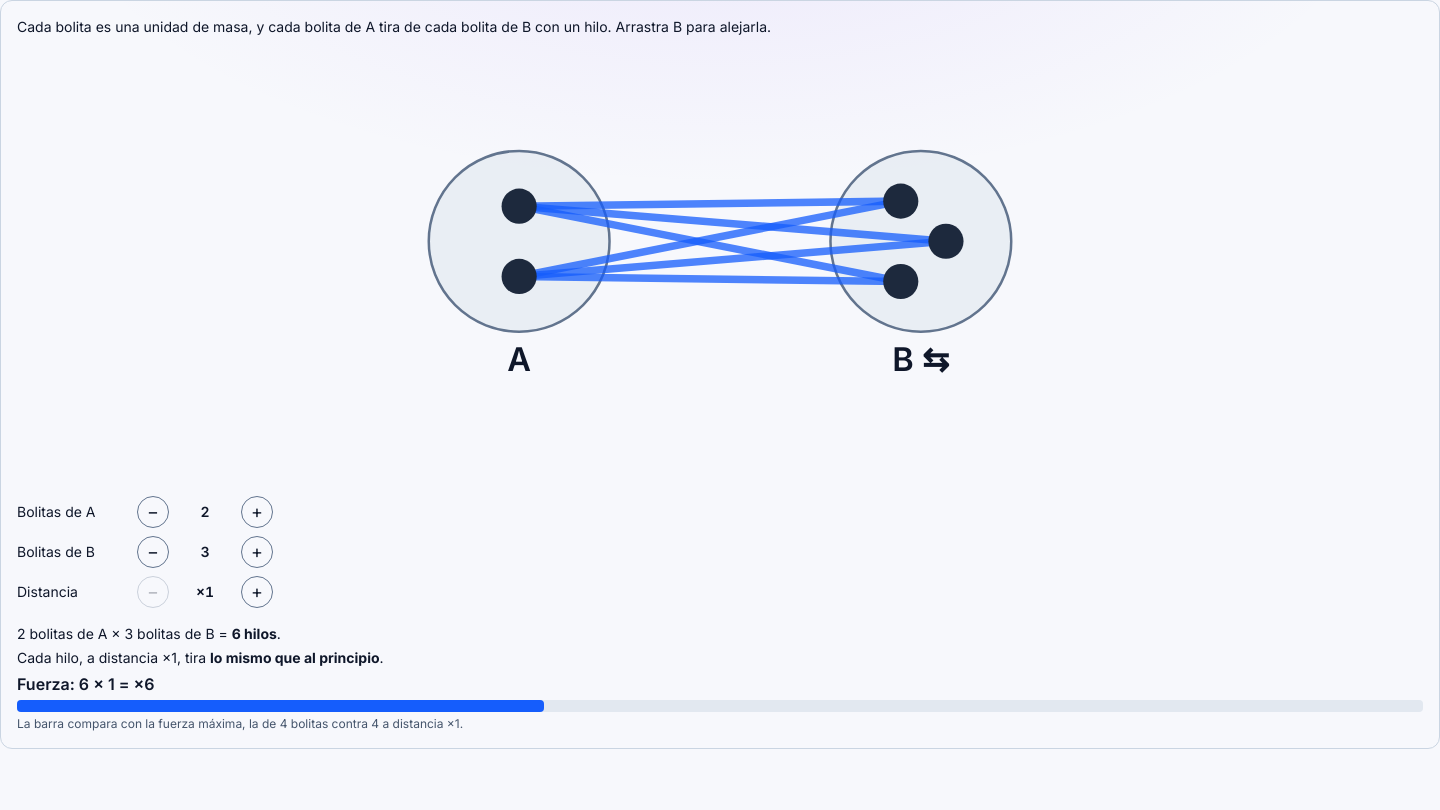
it: MassThreads › thins every thread to 1/d² as B moves away
What coordinates should you click on to do the following:
click the button named "Más: Distancia"
I would click on:
 (257, 592)
Its box is [241,576,273,608].
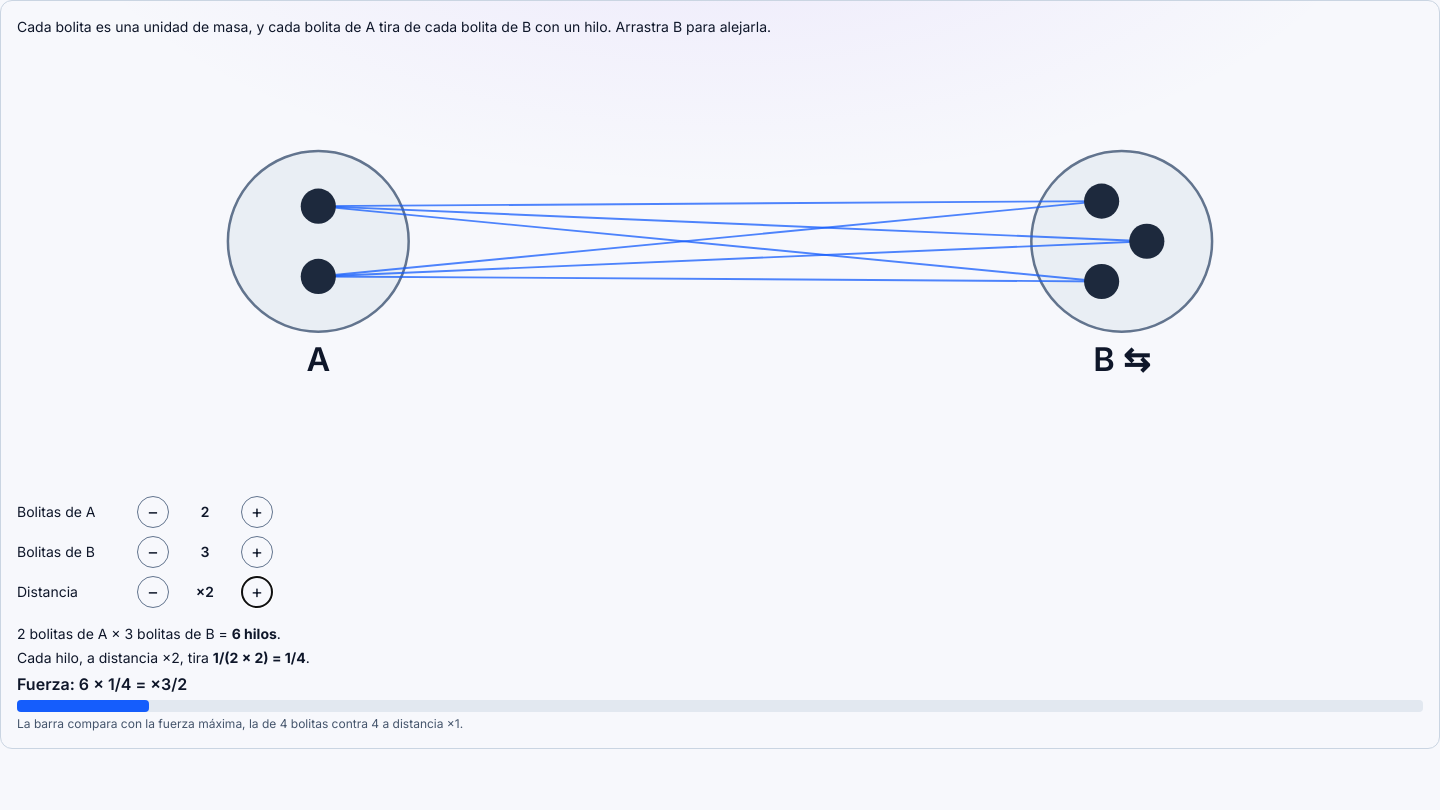
Result: the text "tira 1/(2 × 2) = 1/4." is shown at [17,649,310,666]
Result: the text "Fuerza: 6 × 1/4 = ×3/2" is shown at [17,674,187,694]
What coordinates should you click on to do the following:
click the button named "Más: Distancia"
I would click on:
 (257, 592)
Its box is [241,576,273,608].
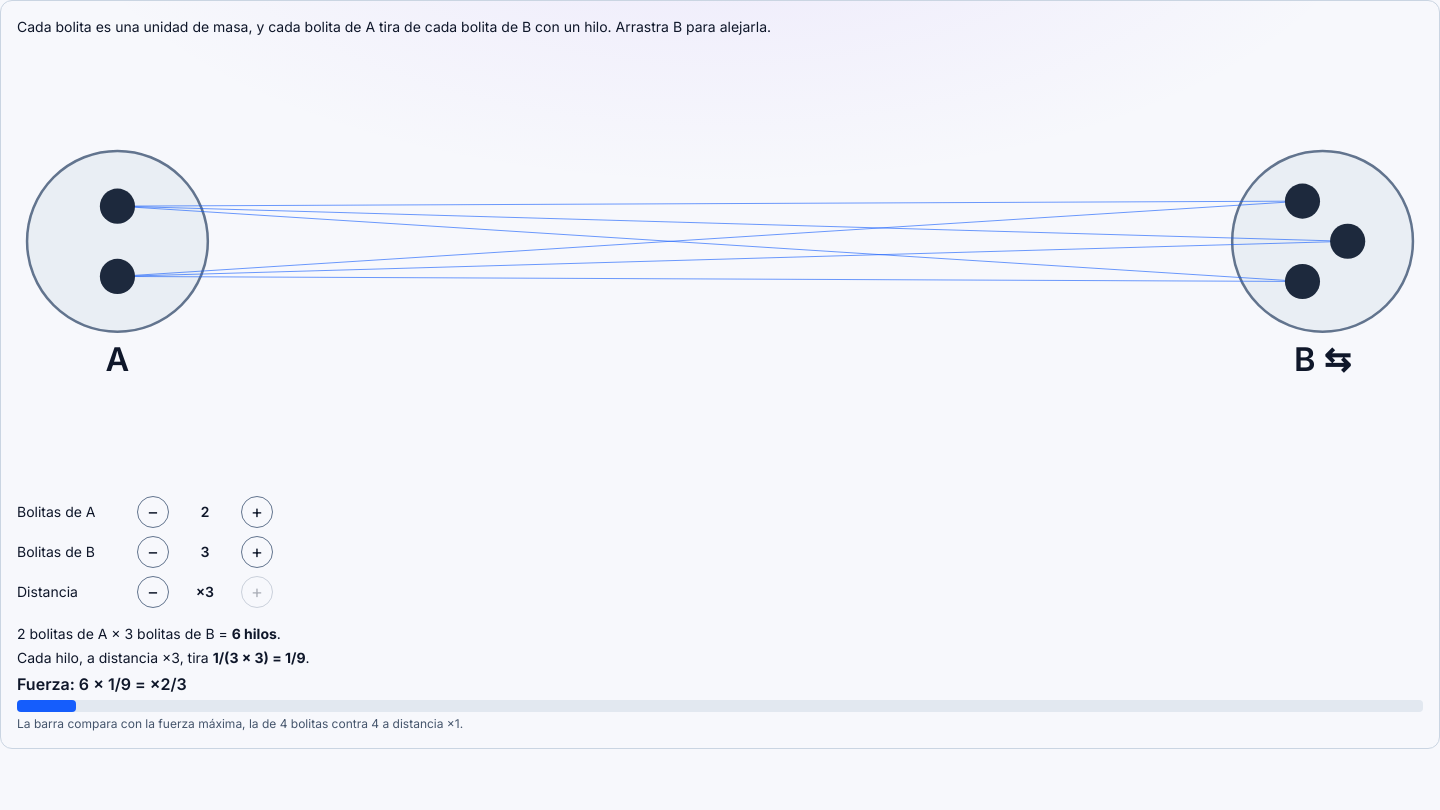
Result: the text "Fuerza: 6 × 1/9 = ×2/3" is shown at [17,674,187,694]
Result: the button named "Más: Distancia" is disabled at [241,576,273,608]
